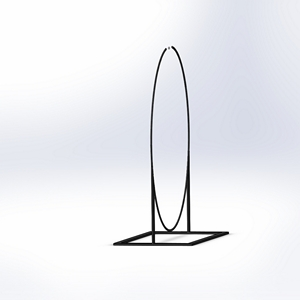circle: (111, 42, 230, 248)
